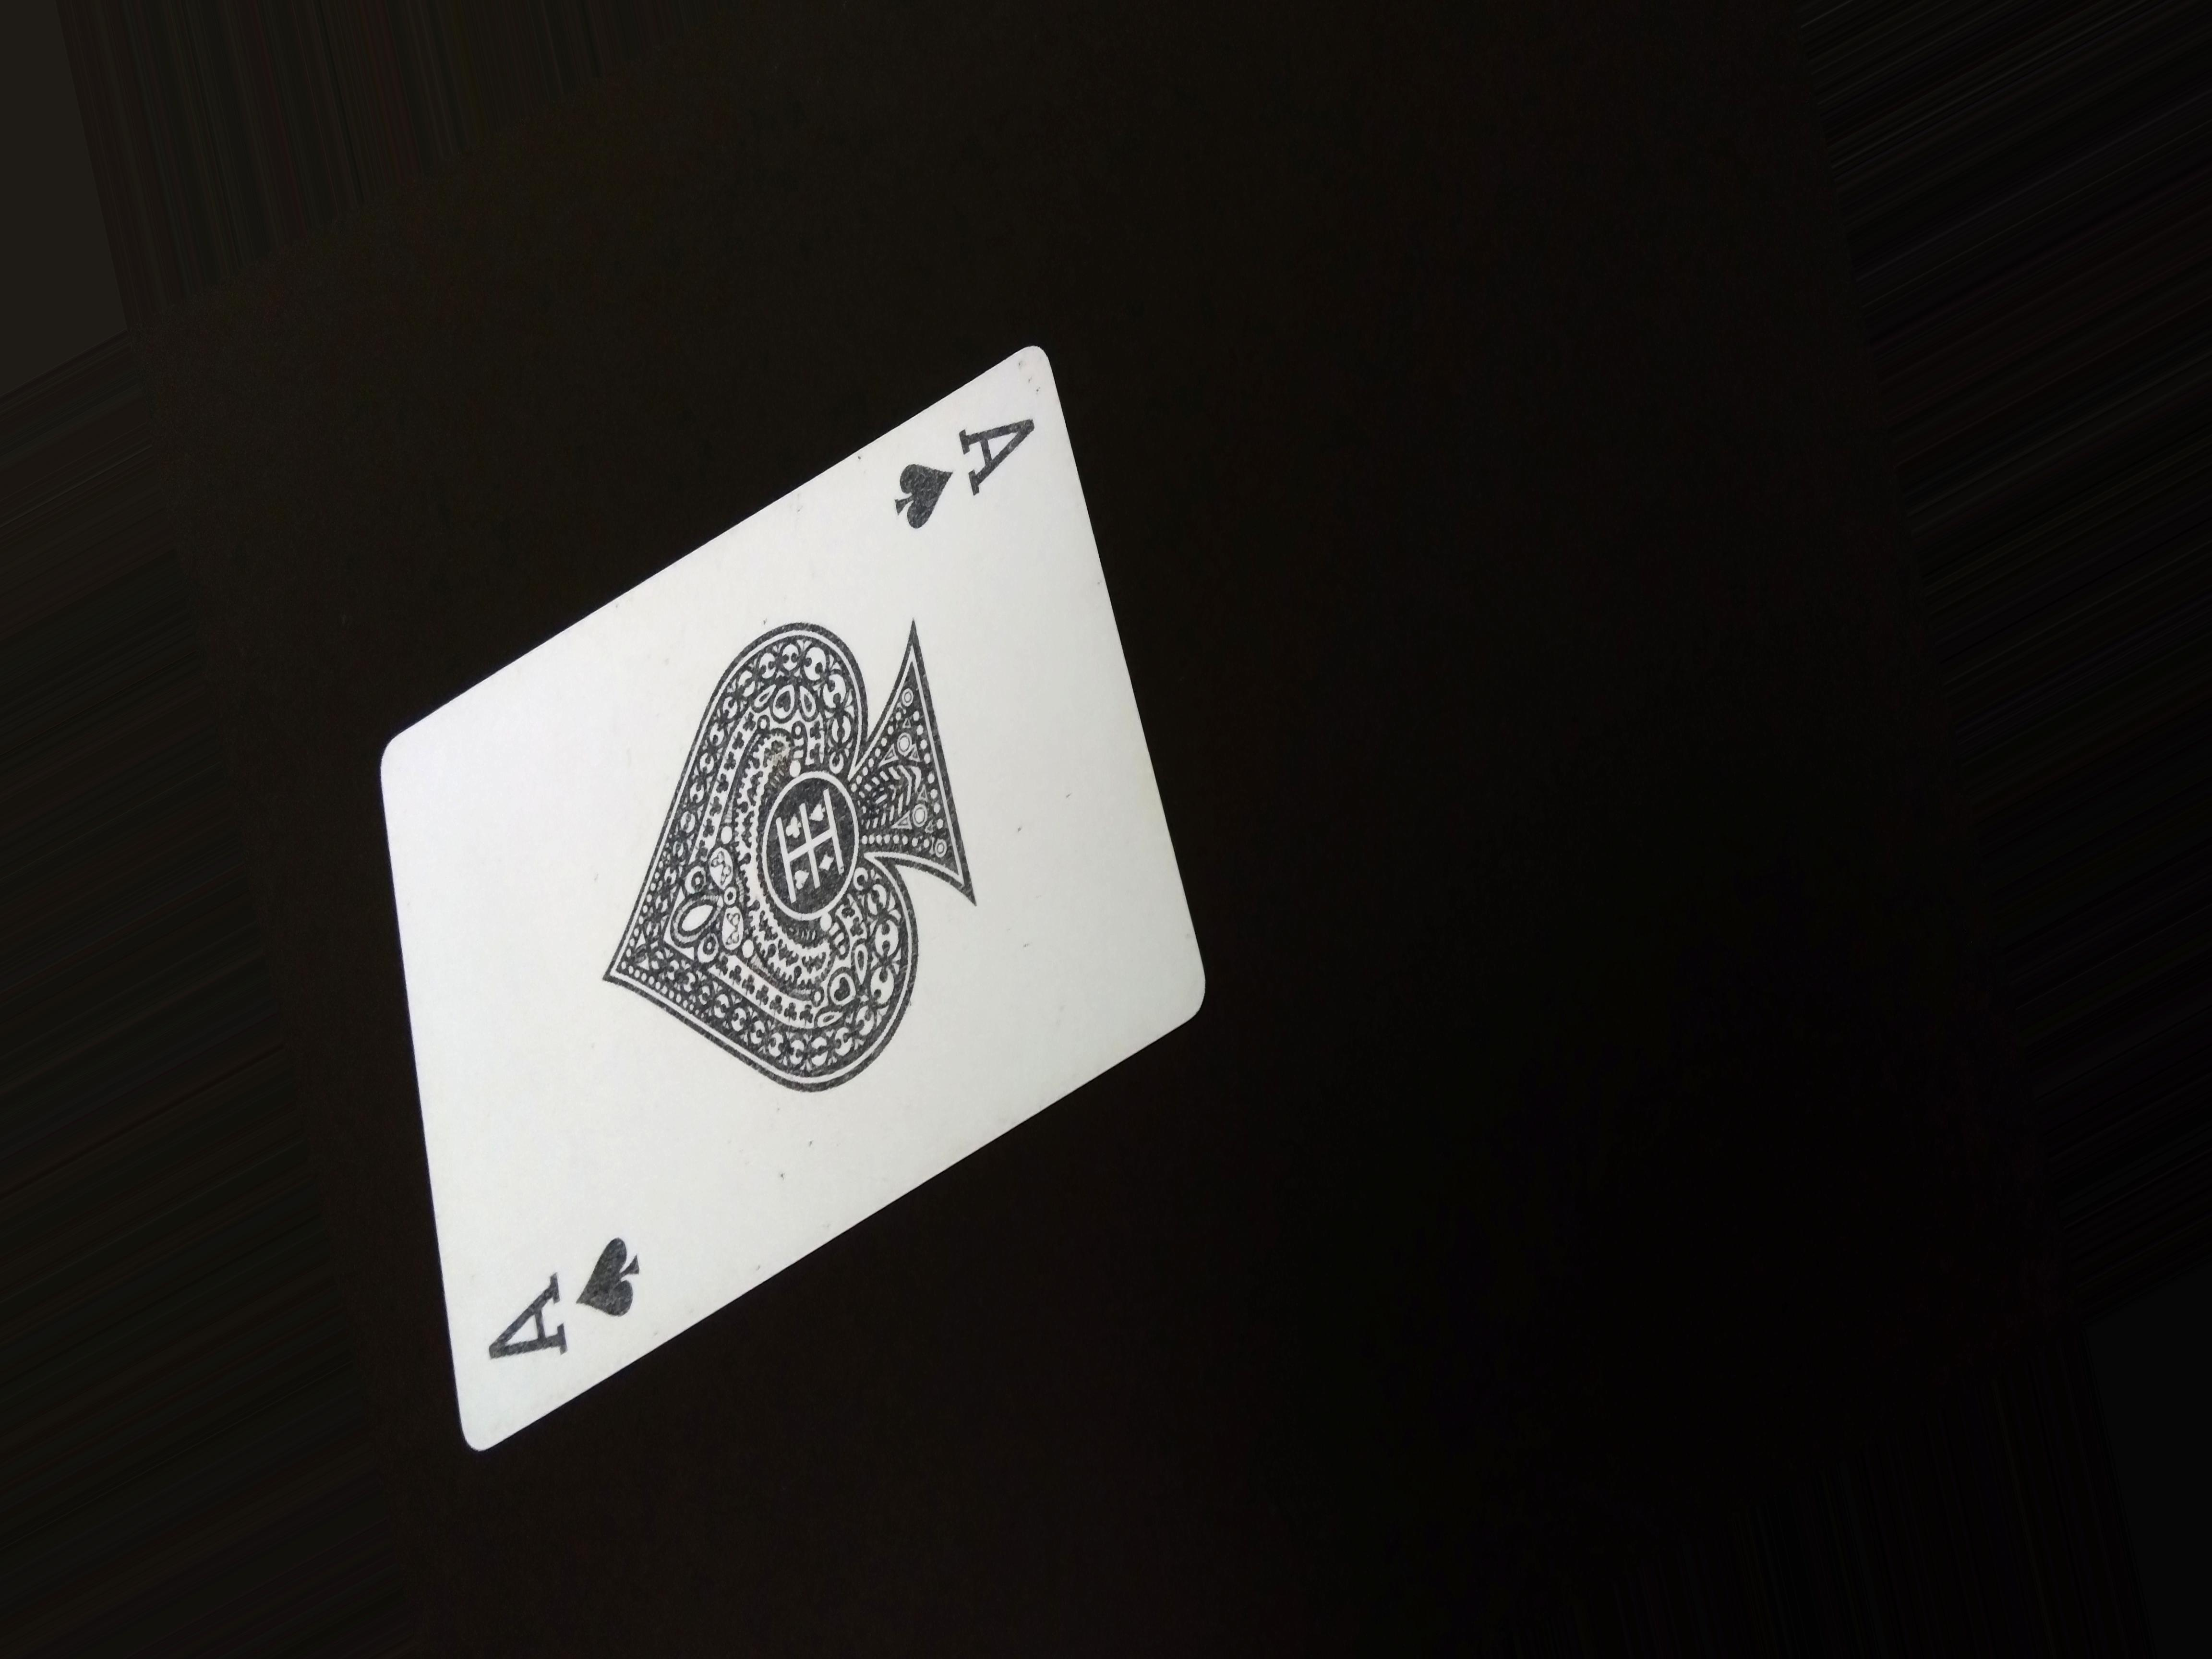AS: (883, 401, 1049, 538)
